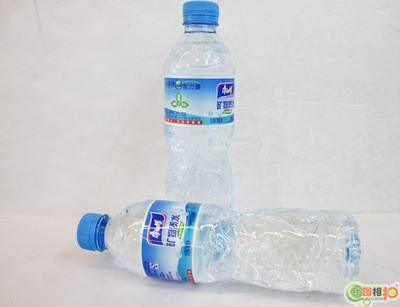amwater: (75, 192, 373, 303), (157, 3, 248, 218)
